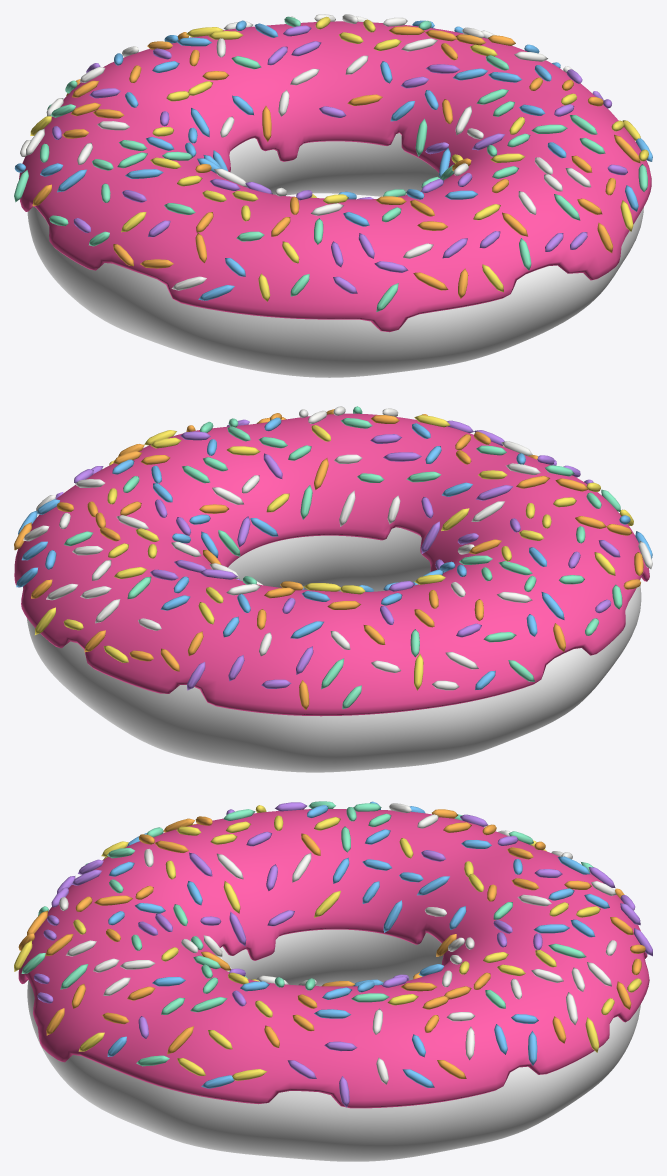
File: pink_donut_sprinkles_v002.glb
3 renders of one model, top to bottom at view 1: azimuth 30°, elevation 25°; view 2: azimuth 150°, elevation 25°; view 3: azimuth 270°, elevation 25°, orthographic.
Parts seen in each view (by area): view 1: donut_icing, donut_sprinkles, donut_body; view 2: donut_icing, donut_sprinkles, donut_body; view 3: donut_icing, donut_sprinkles, donut_body.
Part boxes in pixels (x1,y1,x2,y2): donut_icing: [19, 21, 651, 332]; donut_sprinkles: [14, 14, 652, 311]; donut_body: [27, 133, 643, 377]; donut_icing: [14, 413, 649, 716]; donut_sprinkles: [14, 406, 652, 709]; donut_body: [27, 527, 641, 772]; donut_icing: [18, 809, 649, 1108]; donut_sprinkles: [14, 801, 652, 1107]; donut_body: [27, 929, 640, 1161].
Bounding box in the file's own units: 0.096 × 0.028 × 0.0962.
